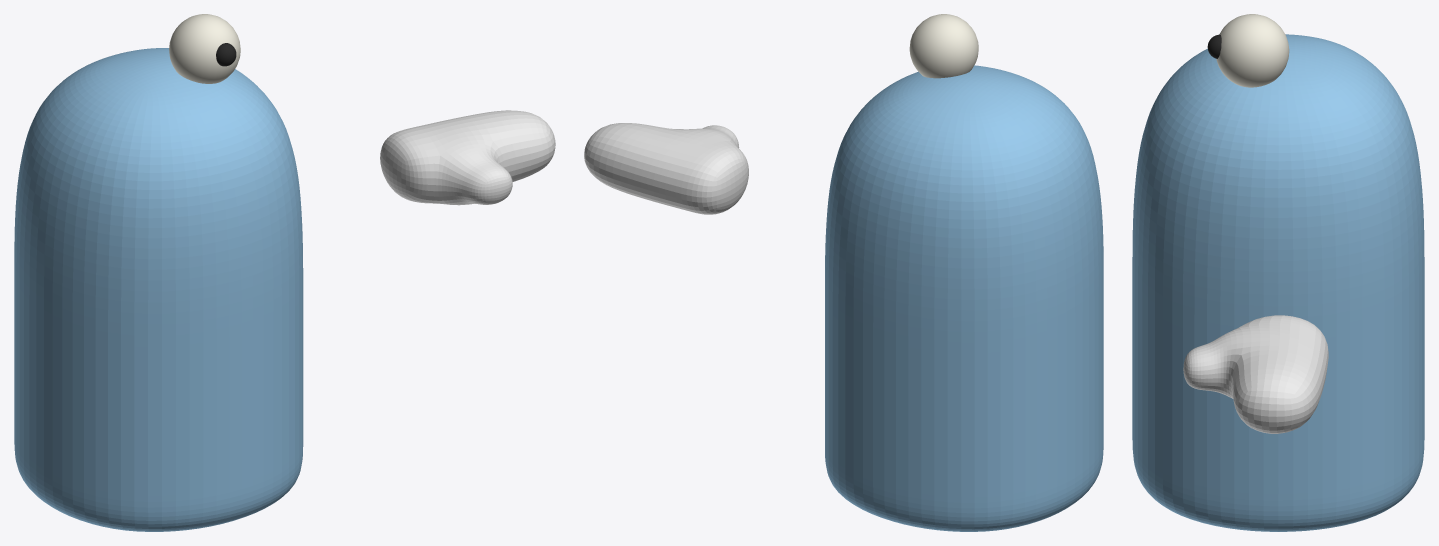
File: fighter.glb
3 views of the same model, side by side, from view 1: azimuth 30°, elevation 25°; view 2: azimuth 150°, elevation 25°; view 3: azimuth 270°, elevation 25° (orthographic). The views are drawn at different scales.
Visible parts, largest first — view 1: body, hand, eye; view 2: body, hand, eye; view 3: body, hand, eye.
Boxes of the visible parts, bbox=[...] form: body: bbox=[14, 48, 303, 531]; hand: bbox=[380, 110, 555, 205]; eye: bbox=[169, 14, 240, 83]; body: bbox=[825, 65, 1103, 531]; hand: bbox=[584, 123, 748, 214]; eye: bbox=[909, 14, 978, 78]; body: bbox=[1132, 34, 1424, 531]; hand: bbox=[1183, 315, 1328, 433]; eye: bbox=[1207, 14, 1289, 87].
Bounding box in the file's own units: 0.8734 × 0.7702 × 0.4179.
